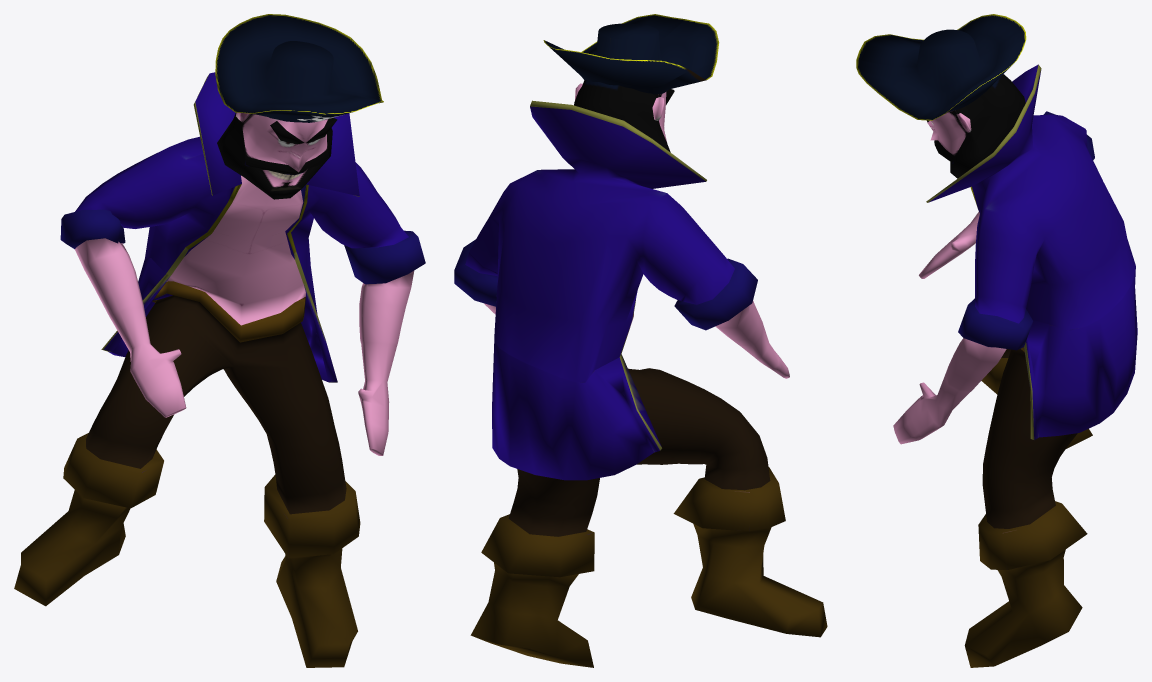
The model's file is PirataCelebracion_000184.obj.
The picture shows the model from 3 angles, left to right: view 1: azimuth 30°, elevation 25°; view 2: azimuth 150°, elevation 25°; view 3: azimuth 270°, elevation 25°; orthographic projection. The views are drawn at different scales.
Visible parts, largest first — view 1: Pirata_PirataH; view 2: Pirata_PirataH; view 3: Pirata_PirataH.
Boxes of the visible parts, <box> form: Pirata_PirataH: <box>14,14,425,667</box>; Pirata_PirataH: <box>454,14,827,667</box>; Pirata_PirataH: <box>856,14,1137,667</box>.
Bounding box in the file's own units: 4.78 × 7.72 × 3.24.
1 material, 1 textured.
